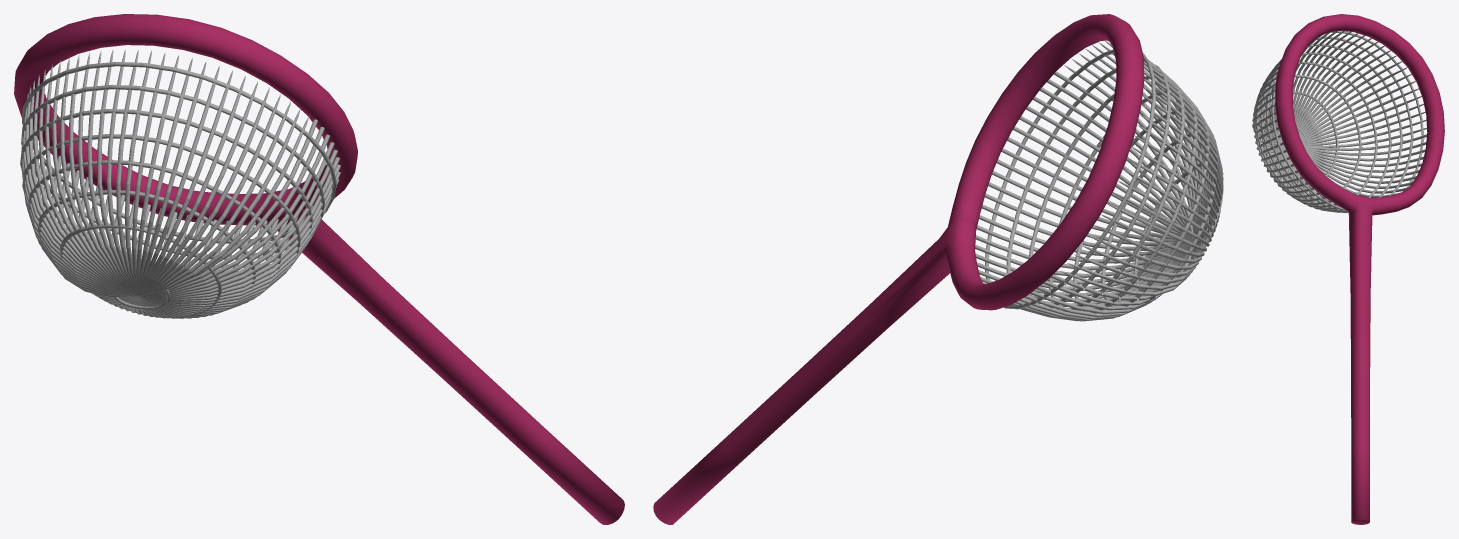
File: nettle.obj
3 renders of one model, left to right at view 1: azimuth 30°, elevation 25°; view 2: azimuth 150°, elevation 25°; view 3: azimuth 270°, elevation 25°, orthographic. The views are drawn at different scales.
Visible parts, largest first — view 1: Nettle_Cube.4121; view 2: Nettle_Cube.4121; view 3: Nettle_Cube.4121.
Part boxes in pixels (x1=…): Nettle_Cube.4121: x1=14, y1=14, x2=624, y2=524; Nettle_Cube.4121: x1=653, y1=14, x2=1223, y2=524; Nettle_Cube.4121: x1=1252, y1=14, x2=1444, y2=524.
Size of the model in its own units: 1.67 by 1.73 by 0.8068.
